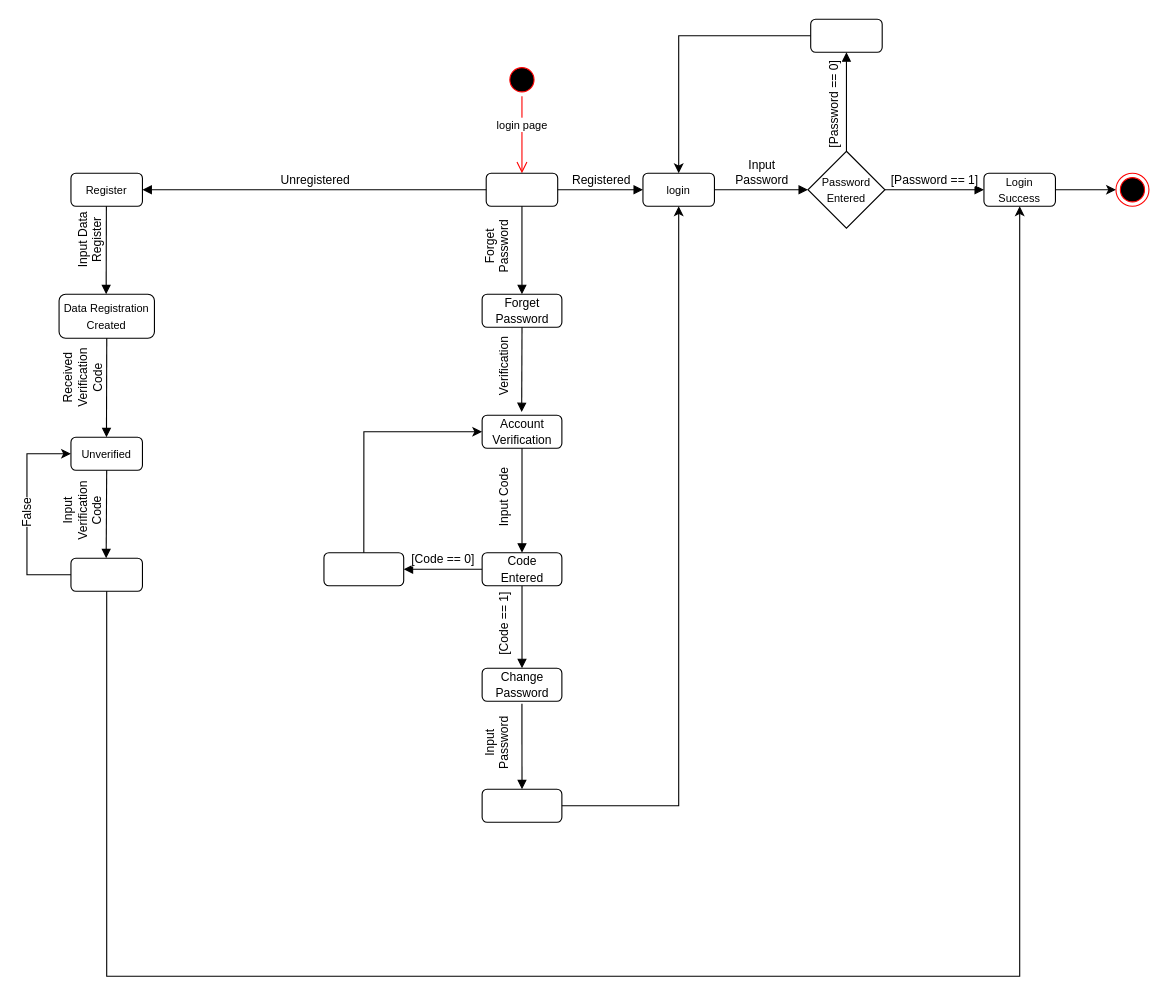
This 1168x1004 diagram has some shape labels left out. Here are the shapes that lost their labels. From the top down, the centre of each, then its label:
At pixel 846 35: "Login Failed".
At pixel 521 189: "idle".
At pixel 106 574: "Verified".
At pixel 363 569: "Verification Failed".
At pixel 521 805: "Password Changed".
